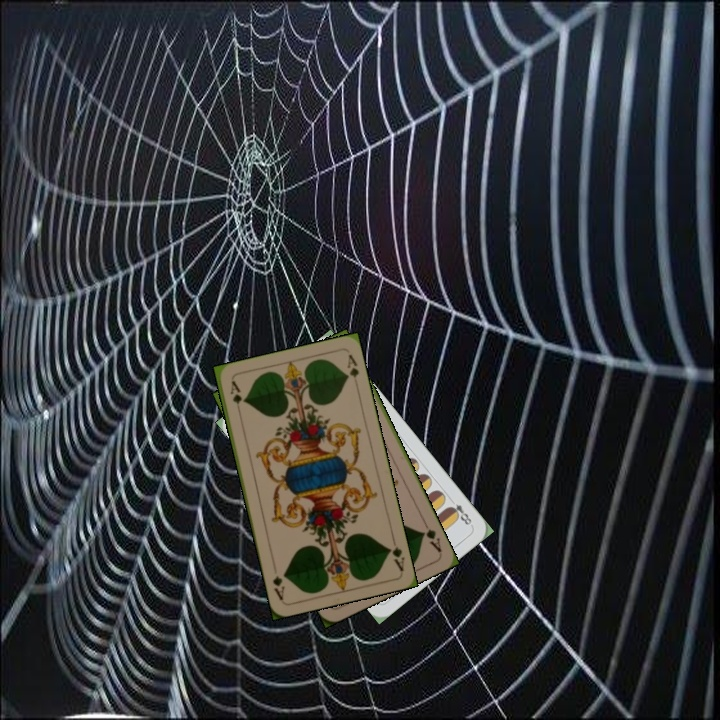E8: (444, 499, 475, 529)
GA: (417, 517, 444, 555), (383, 533, 407, 573), (226, 377, 244, 417)
